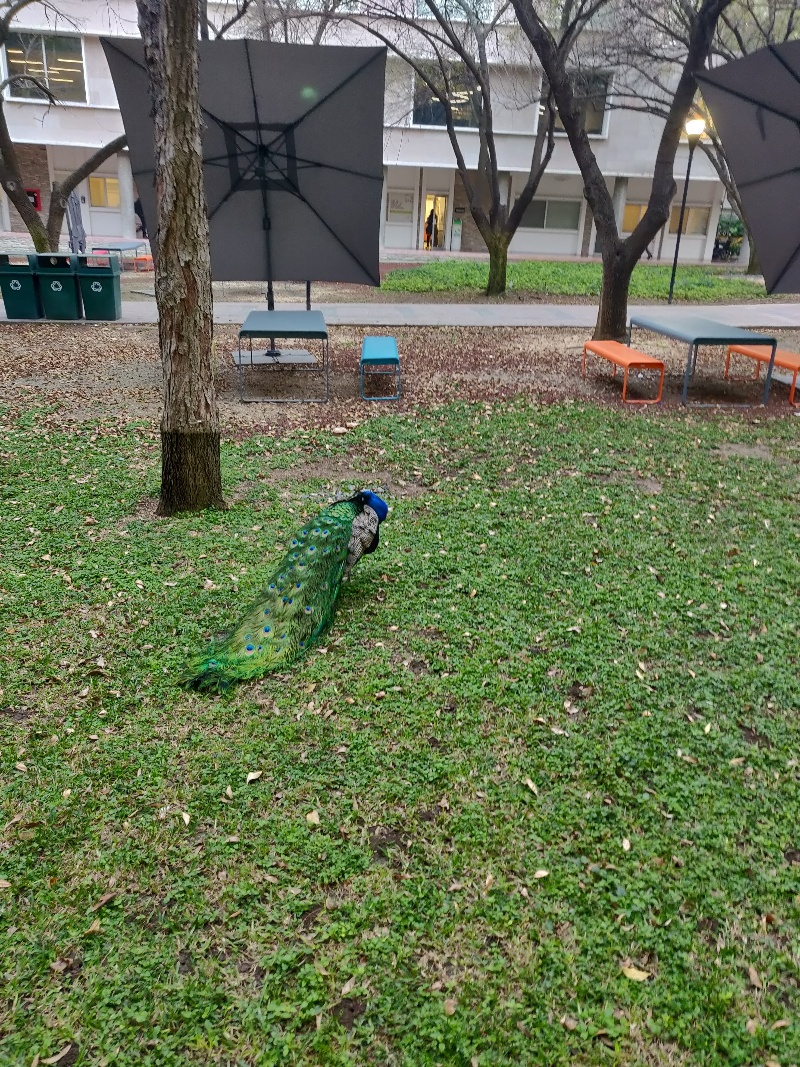pavoreal: (322, 485, 389, 574)
